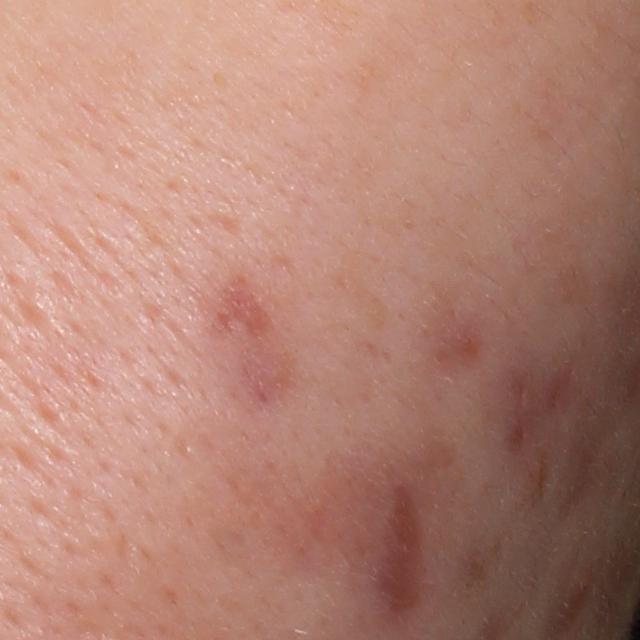atrophic_scar: (370, 479, 436, 618), (217, 275, 270, 339), (564, 439, 608, 512), (200, 206, 244, 238)
